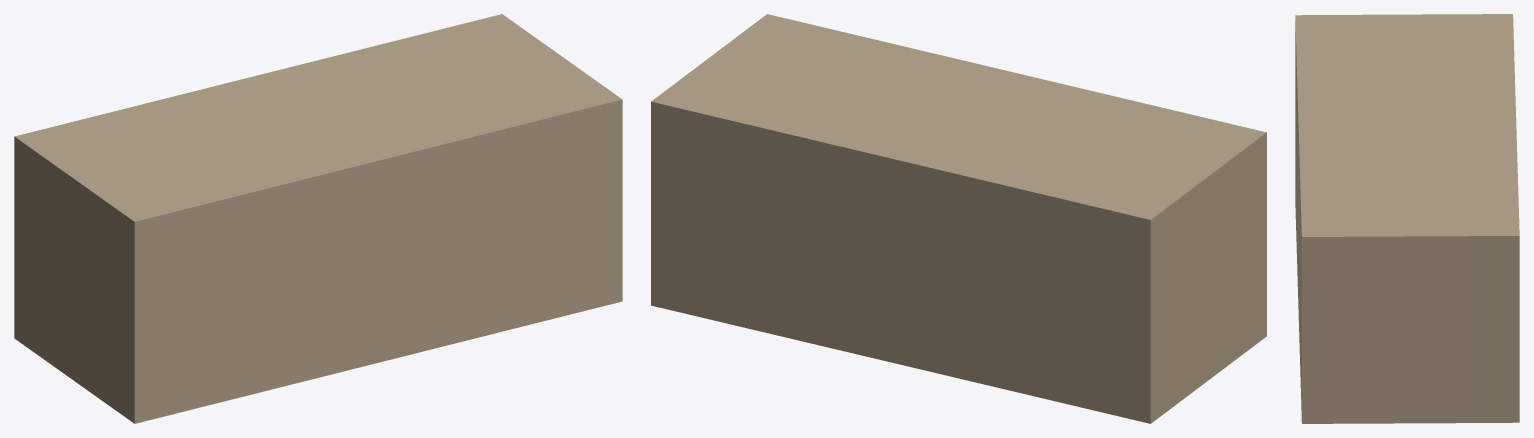
File: bld_97731193.dae
The picture shows the model from 3 angles, left to right: view 1: azimuth 30°, elevation 25°; view 2: azimuth 150°, elevation 25°; view 3: azimuth 270°, elevation 25°; orthographic projection. The views are drawn at different scales.
Parts seen in each view (by area): view 1: bld_97731193; view 2: bld_97731193; view 3: bld_97731193.
Boxes of the visible parts, x1,y1,x2,y2 form: bld_97731193: [14, 14, 622, 423]; bld_97731193: [651, 14, 1266, 423]; bld_97731193: [1295, 14, 1519, 423].
Size of the model in its own units: 20.47 by 8.7 by 8.
